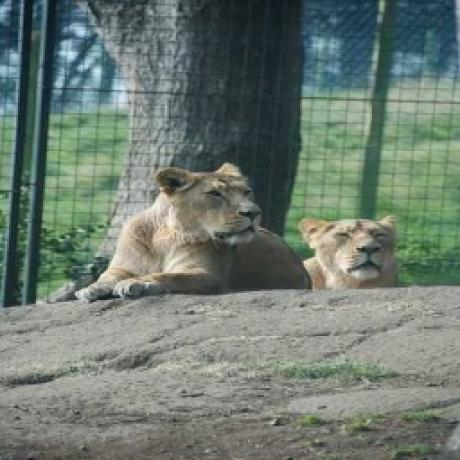Lion: (74, 157, 315, 294), (301, 206, 409, 291)
